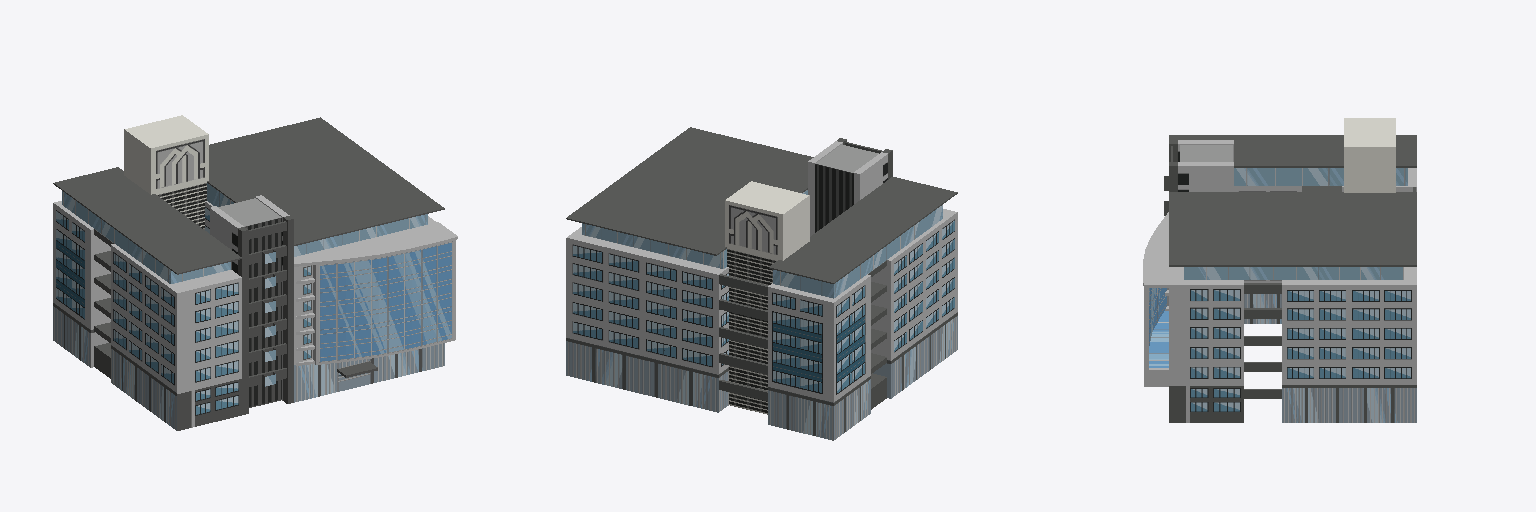
3 views of the same model, side by side, from view 1: azimuth 30°, elevation 25°; view 2: azimuth 150°, elevation 25°; view 3: azimuth 270°, elevation 25° (orthographic).
Visible parts, largest first — view 1: BldgA2; view 2: BldgA2; view 3: BldgA2.
Boxes of the visible parts, x1,y1,x2,y2 form: BldgA2: [53, 115, 457, 430]; BldgA2: [566, 127, 957, 440]; BldgA2: [1143, 118, 1416, 422].
Bounding box in the file's own units: 413 × 300 × 366.
Materials: 1 (1 with a texture image).